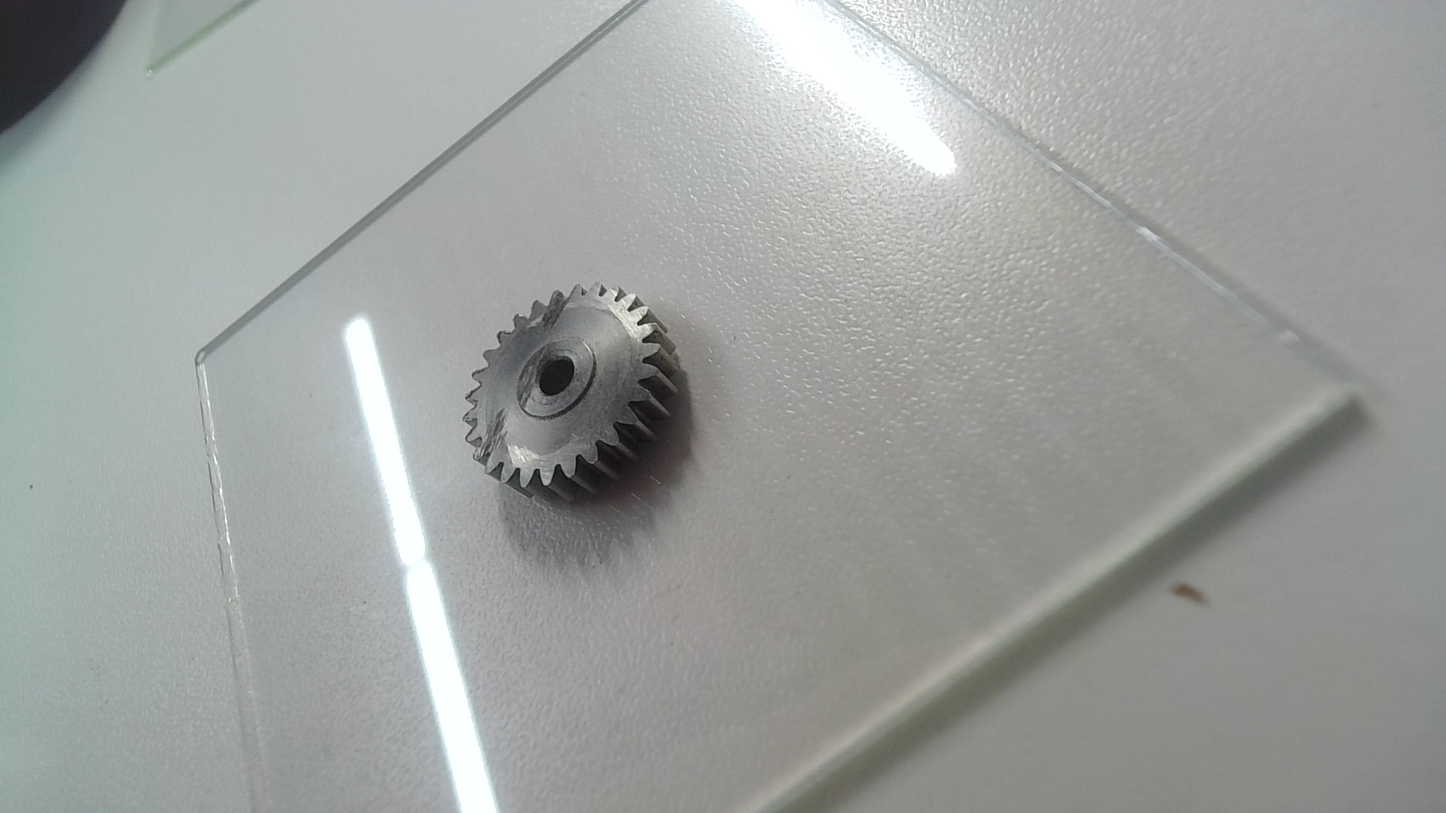gear: (459, 280, 688, 513)
